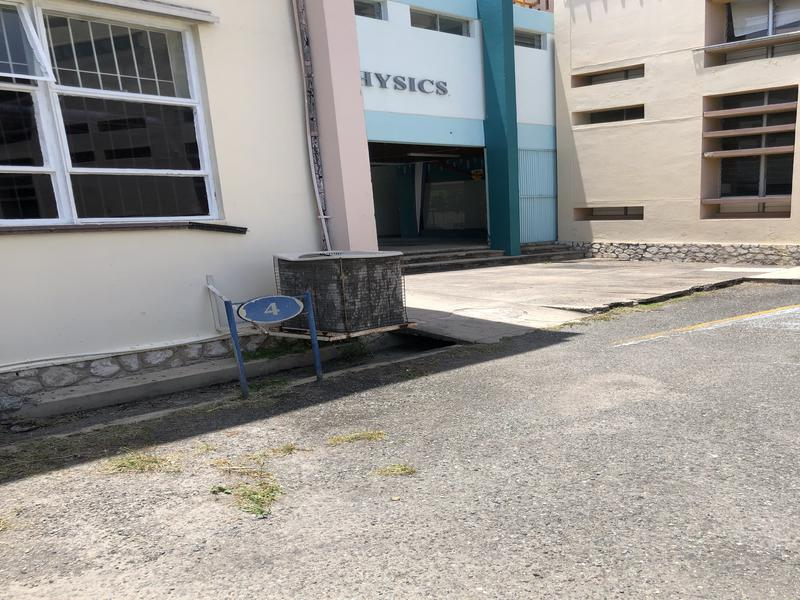18.0053530_-76.7490375_signatentrancetoscitech: (210, 289, 324, 395)
